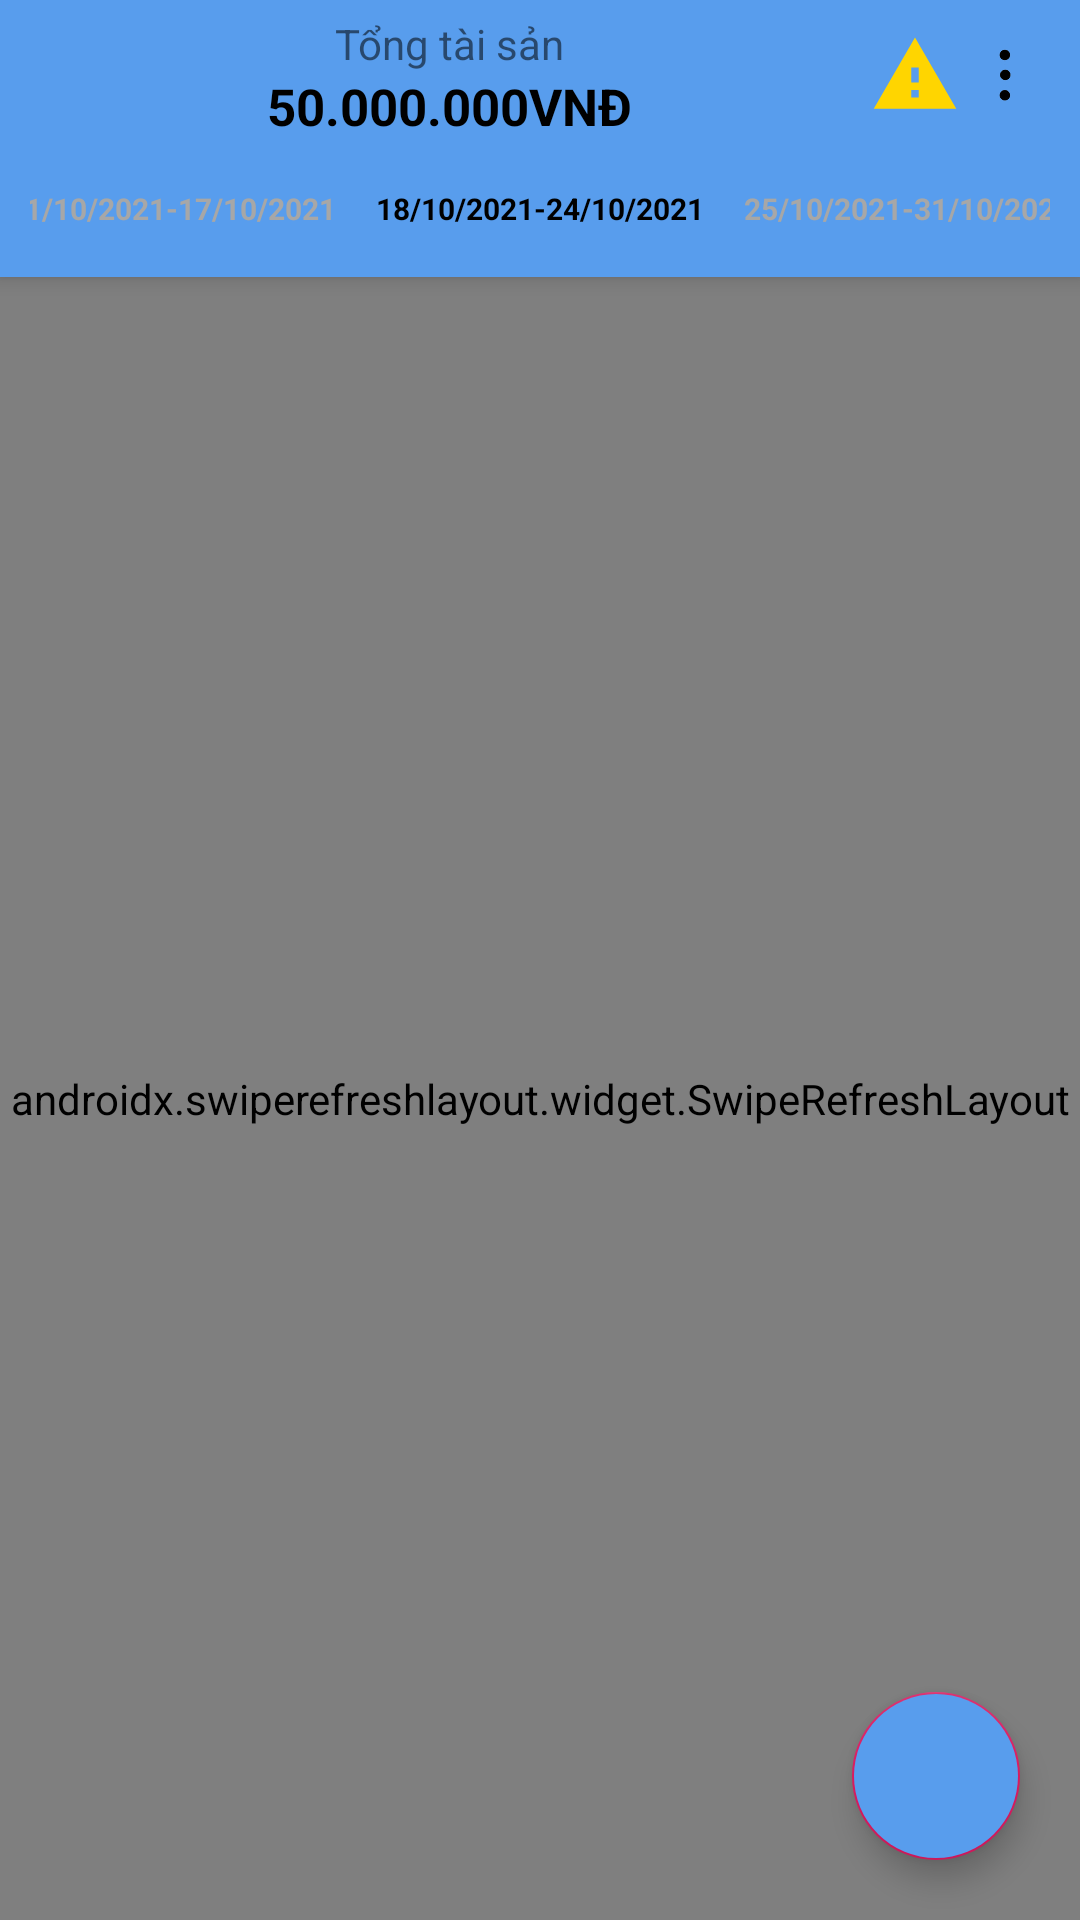

Icons on this 1080w x 1920h Android screen, each with its box as (x1, y1, x2, y2):
more: (999, 49, 1011, 101)
warning: (874, 38, 956, 109)
